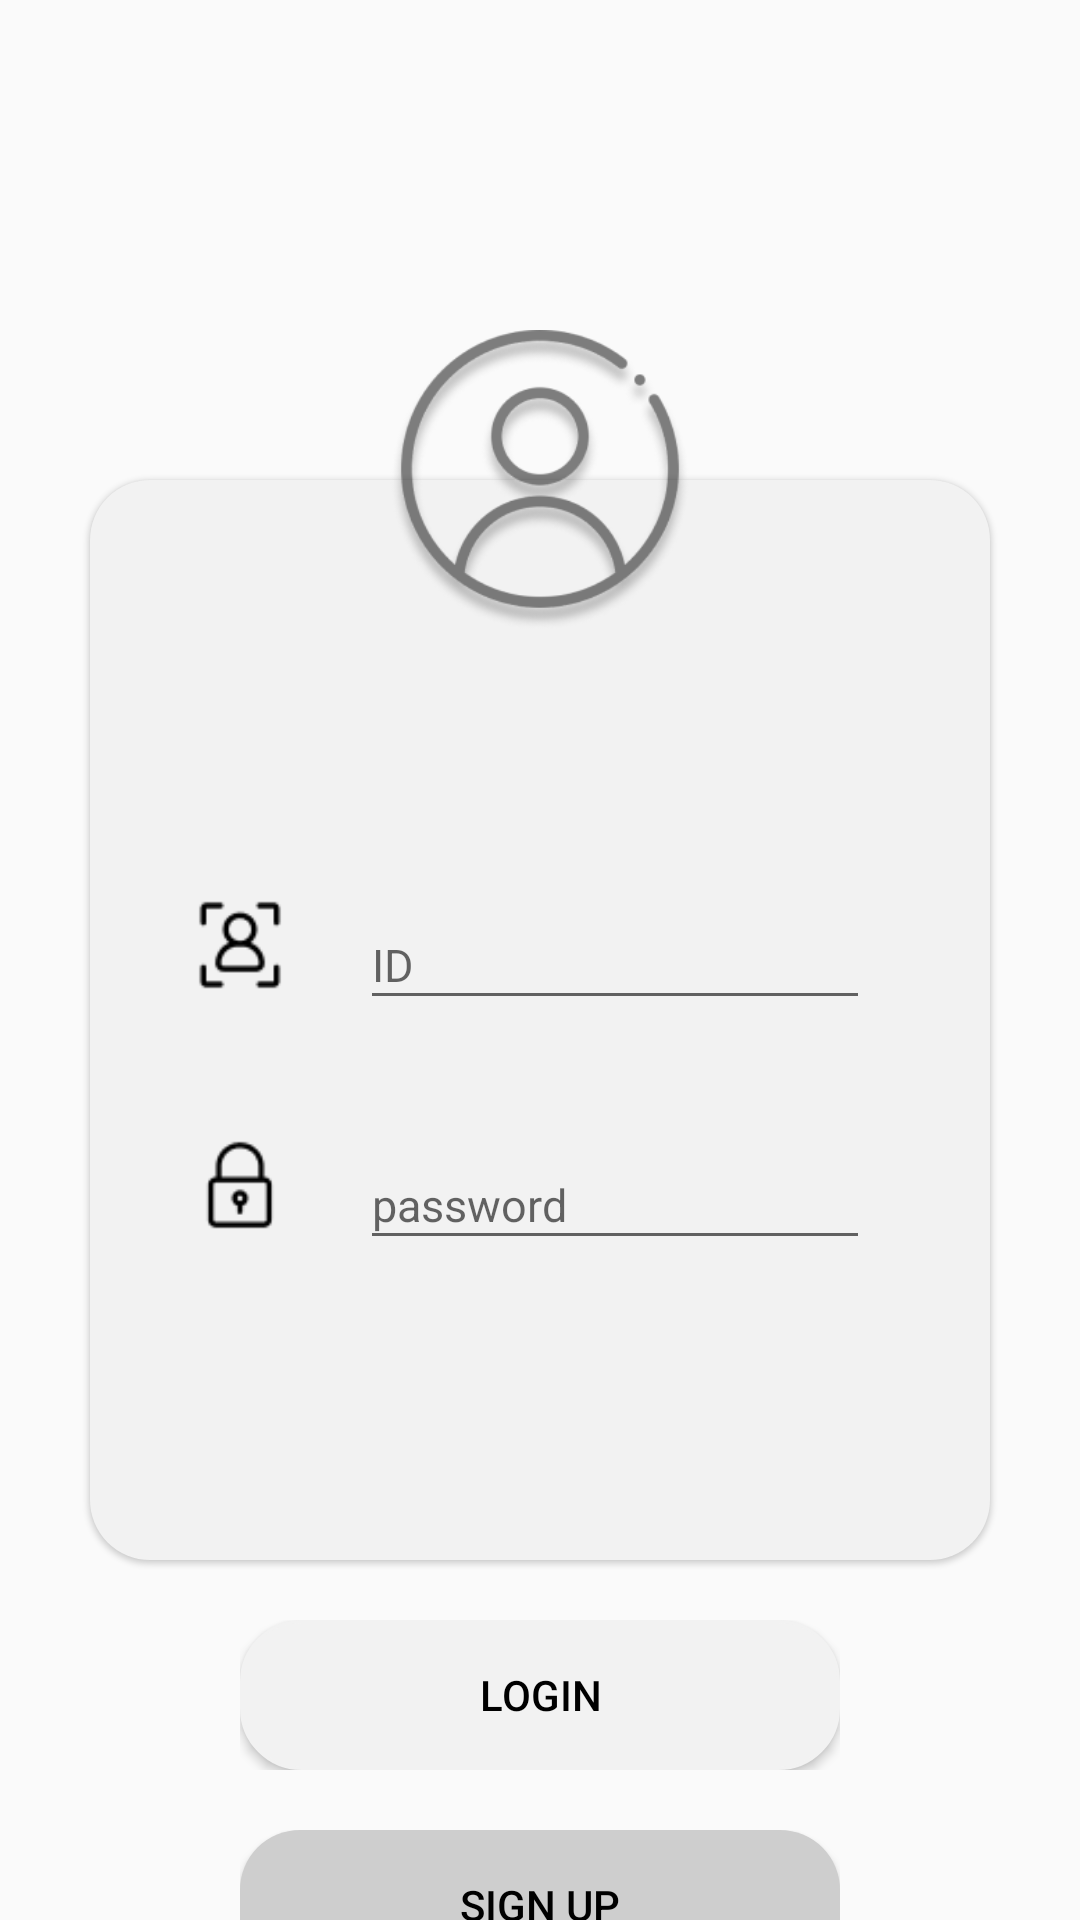

Where to tap for icons on this 1080x1920 app screen, as (x,y):
login id: (240,945)
login people: (540,475)
